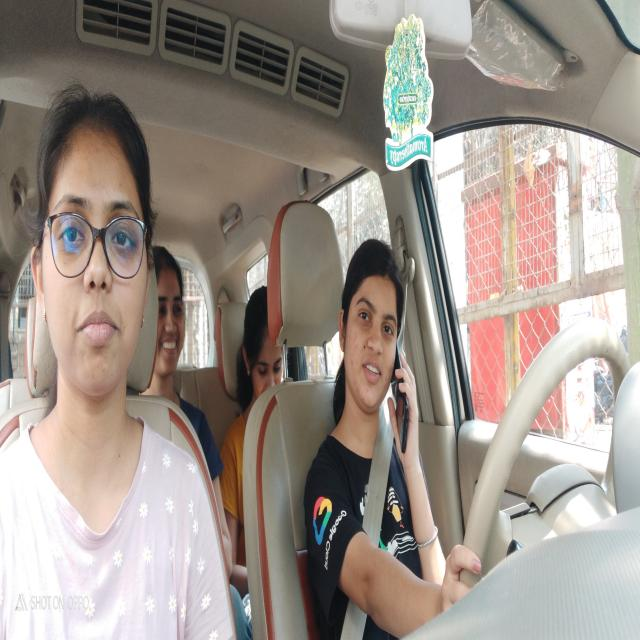mobile: (392, 367, 412, 470)
person: (41, 105, 150, 402), (349, 243, 400, 410), (149, 247, 190, 398), (245, 290, 287, 394)
